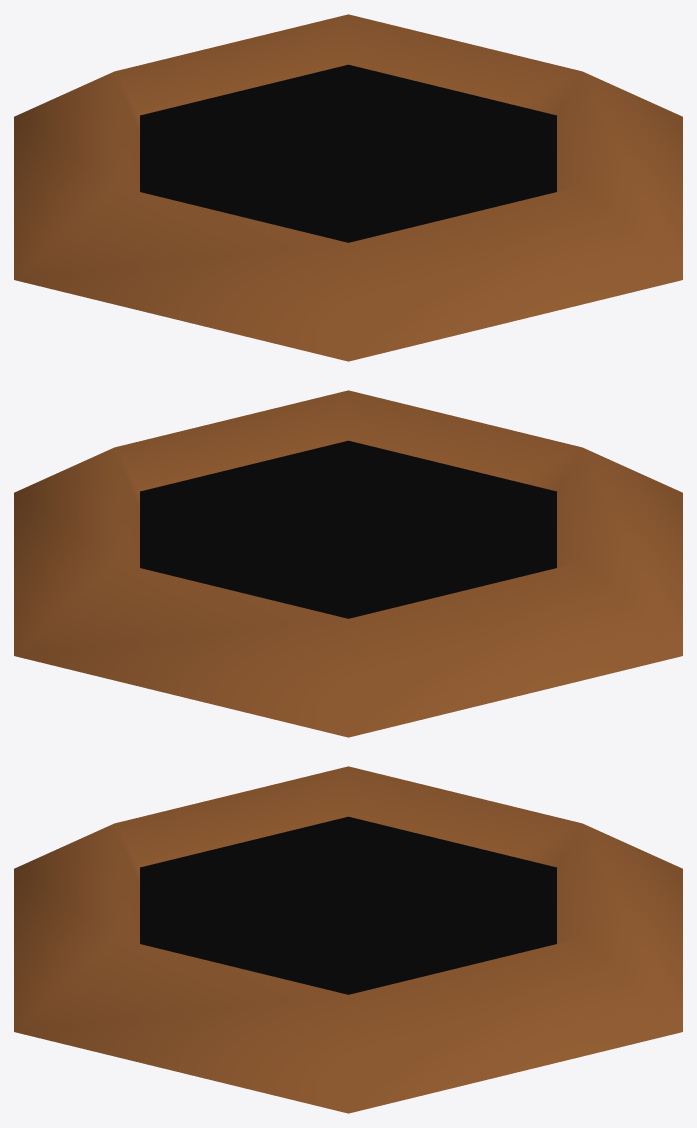
Rendered from fire_spout.fbx.
3 views of the same model, one above another, from view 1: azimuth 30°, elevation 25°; view 2: azimuth 150°, elevation 25°; view 3: azimuth 270°, elevation 25° (orthographic).
Parts seen in each view (by area): view 1: Torus; view 2: Torus; view 3: Torus.
Part boxes in pixels (x1,y1,x2,y2): Torus: [14, 14, 682, 361]; Torus: [14, 390, 682, 737]; Torus: [14, 766, 682, 1113].
Bounding box in the file's own units: 2.5 × 0.4657 × 2.17.
